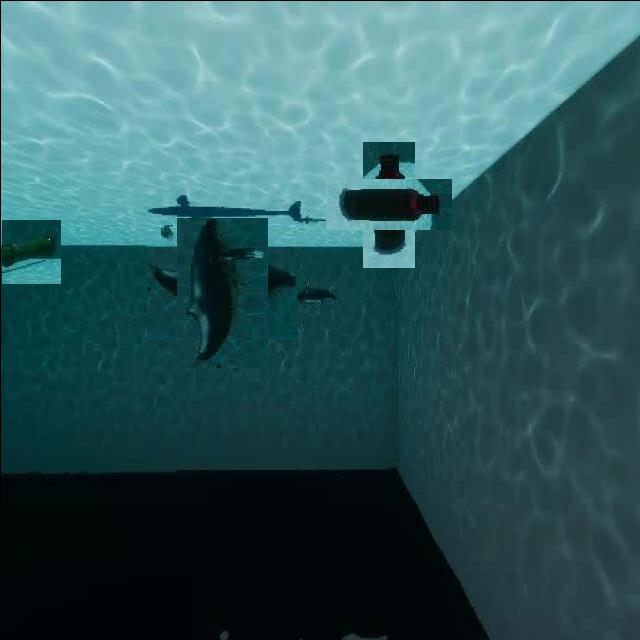Cylinder: (343, 160, 432, 248)
Pipe: (0, 219, 60, 284)
Whale: (160, 232, 282, 352), (290, 276, 344, 314)
